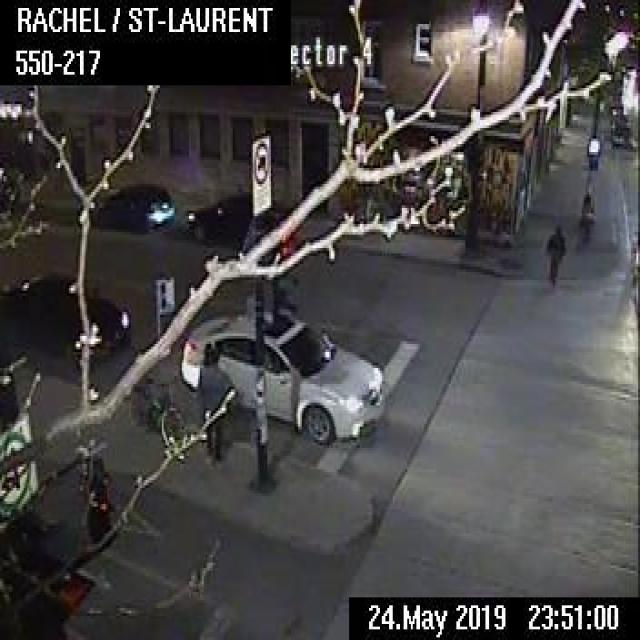pedestrian: (194, 339, 234, 461), (542, 218, 567, 290)
vehicle: (175, 306, 387, 442), (0, 270, 129, 366), (184, 187, 302, 250), (71, 176, 174, 235)
